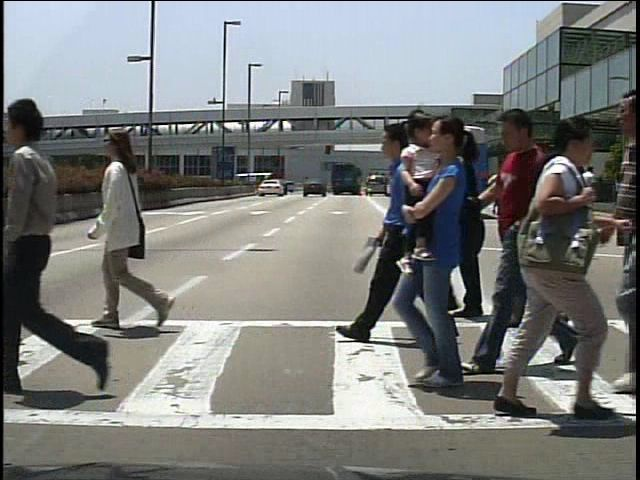person: (467, 111, 602, 427), (12, 79, 139, 403), (335, 118, 465, 347), (86, 121, 173, 342), (421, 130, 493, 322), (513, 140, 580, 334), (503, 103, 529, 377), (582, 168, 602, 218), (491, 163, 509, 216)
